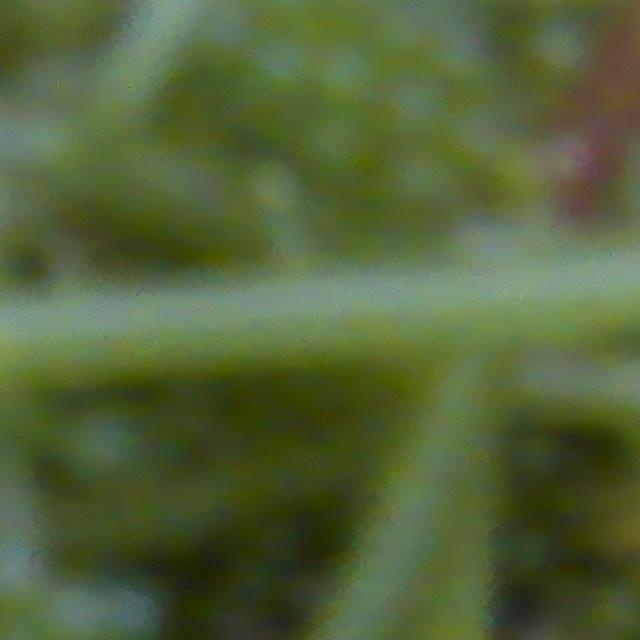SeaGrape: (59, 399, 153, 493), (240, 26, 322, 111), (520, 11, 603, 93), (308, 32, 389, 114), (380, 141, 464, 220), (300, 104, 380, 186), (36, 574, 112, 640), (382, 74, 450, 142), (0, 530, 53, 614), (586, 579, 640, 640)
